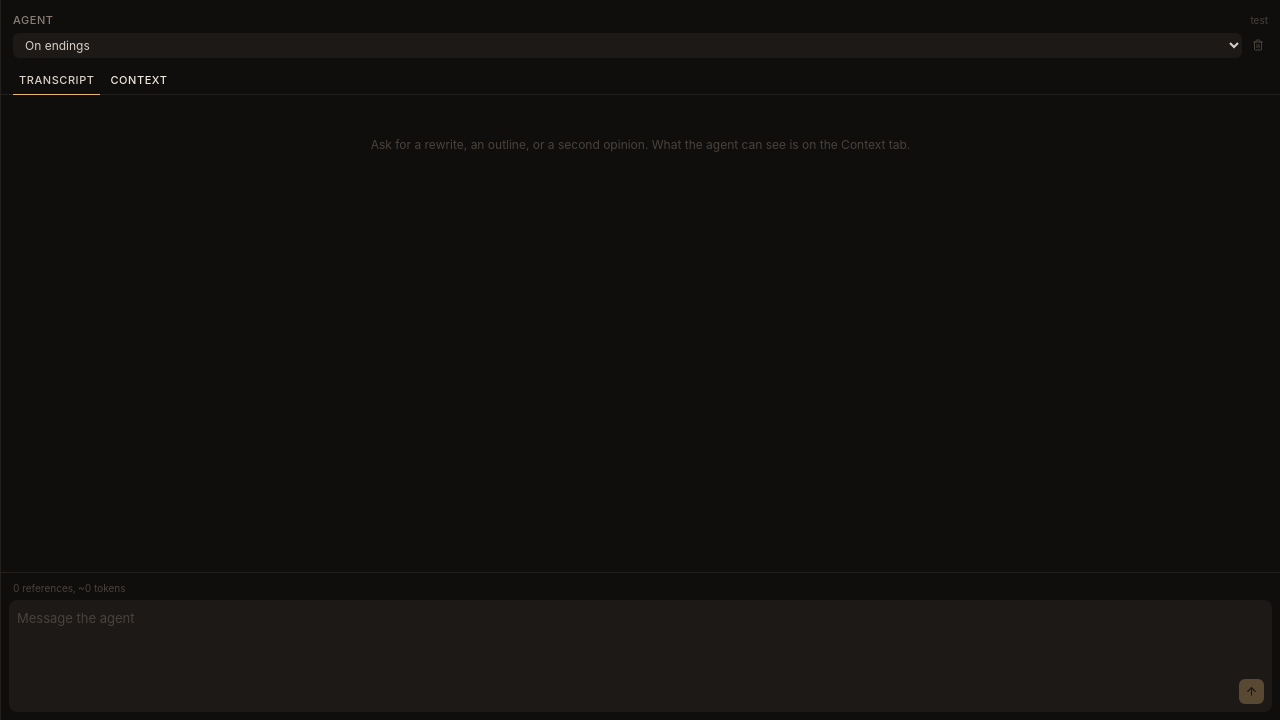
Test: a proposed edit › should report the edit to the caller when it is accepted
This screenshot has width=1280, height=720.
In the text box labelled "Message the agent": (624, 656) [17,608,1231,704], type "Tighten this"
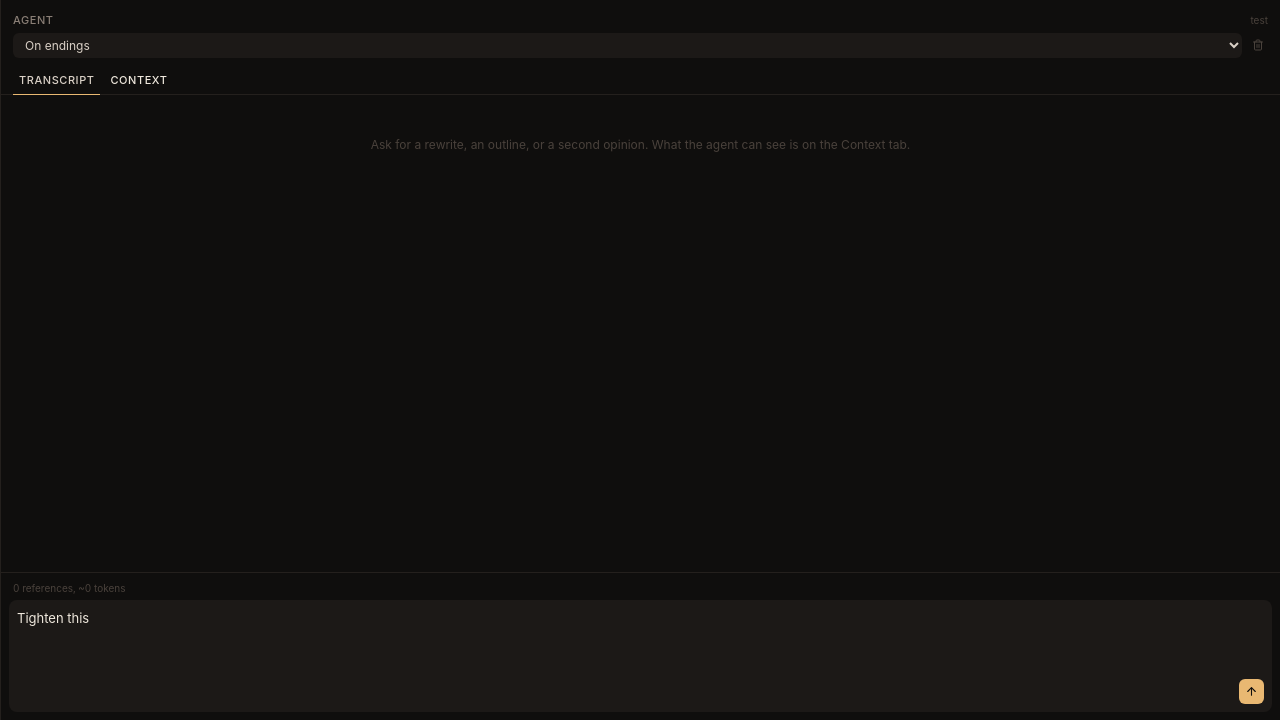
Click the button named "Send message": (1252, 692) [1239,679,1264,704]
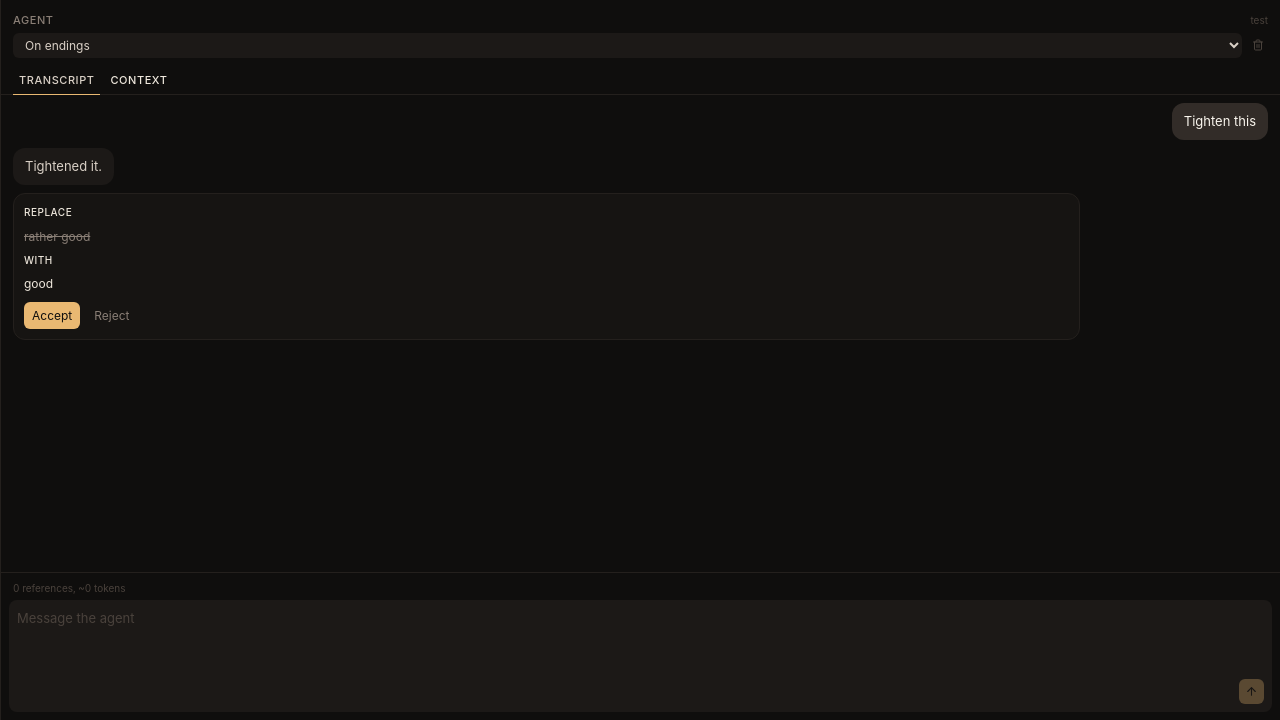
Click the button "Accept": (52, 316) [24,302,80,329]
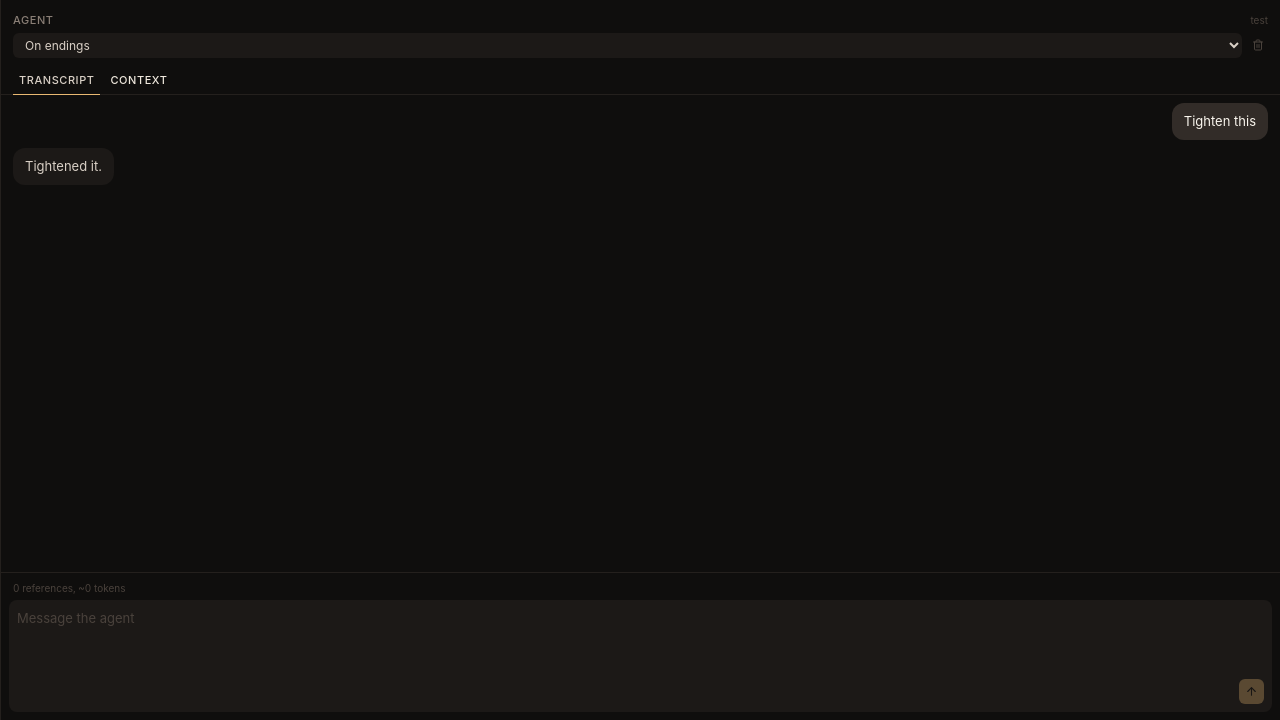
Check: the button "Accept" is gone
